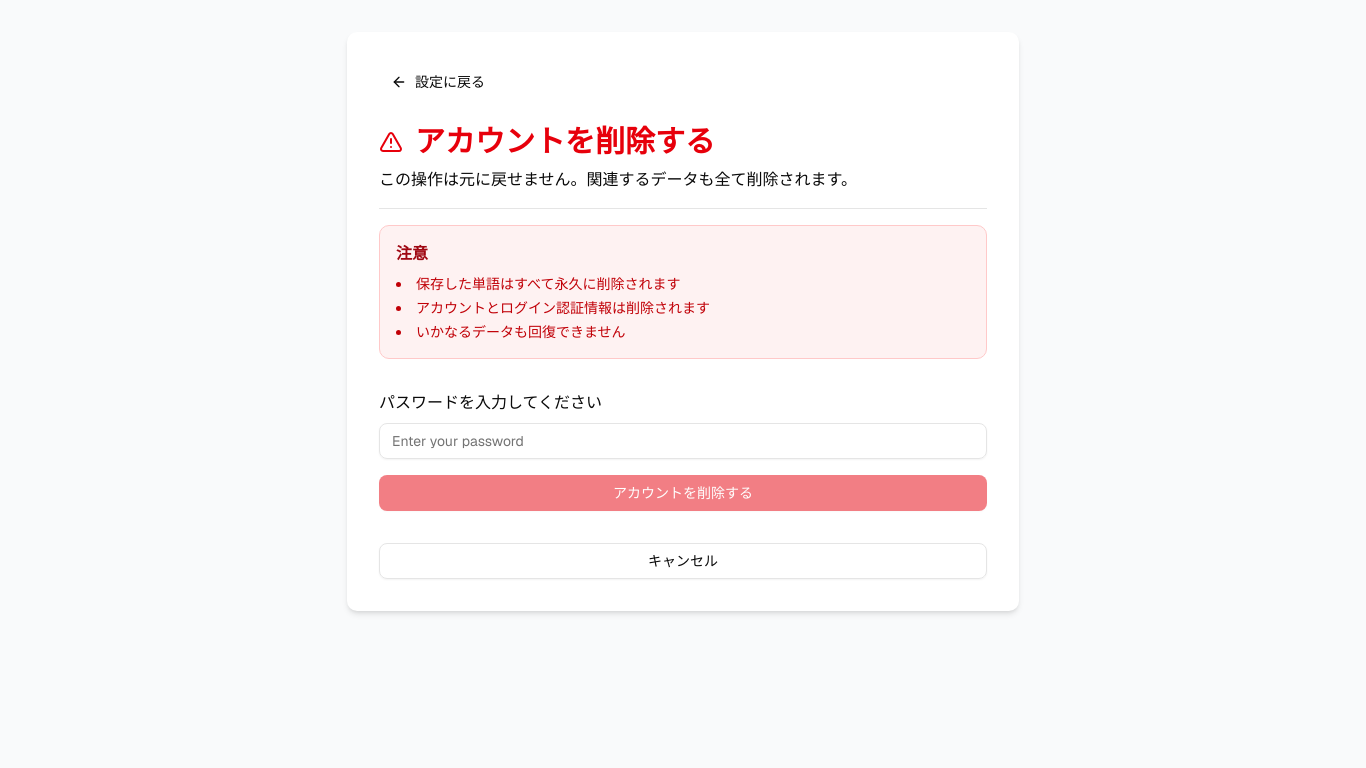
Scenario: DeleteAccount › アカウントを削除するを押すと確認ダイアログが表示される
Type "password123" into the password field with placeholder "Enter your password". click: (683, 441)
box: left=379, top=423, right=987, bottom=459
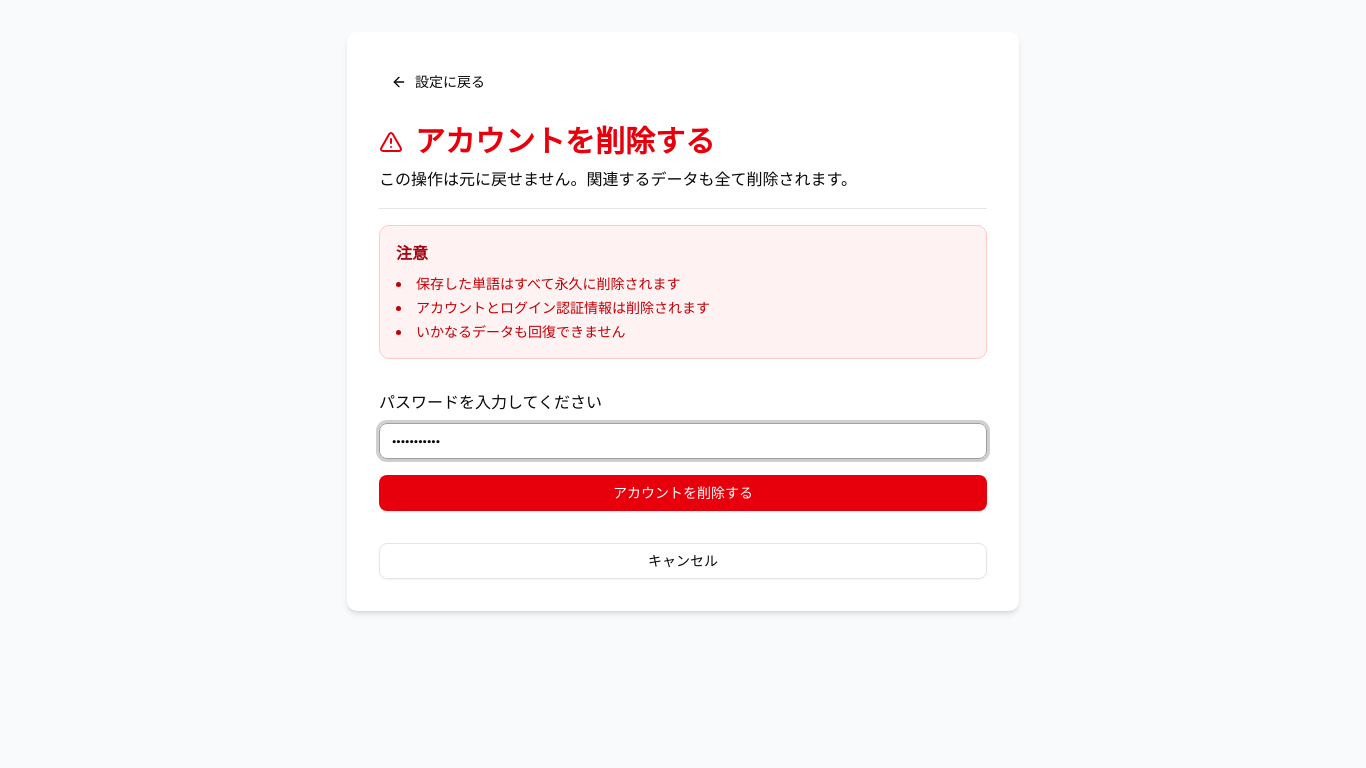
Click the button "アカウントを削除する". click: click(683, 493)
box: left=379, top=475, right=987, bottom=511
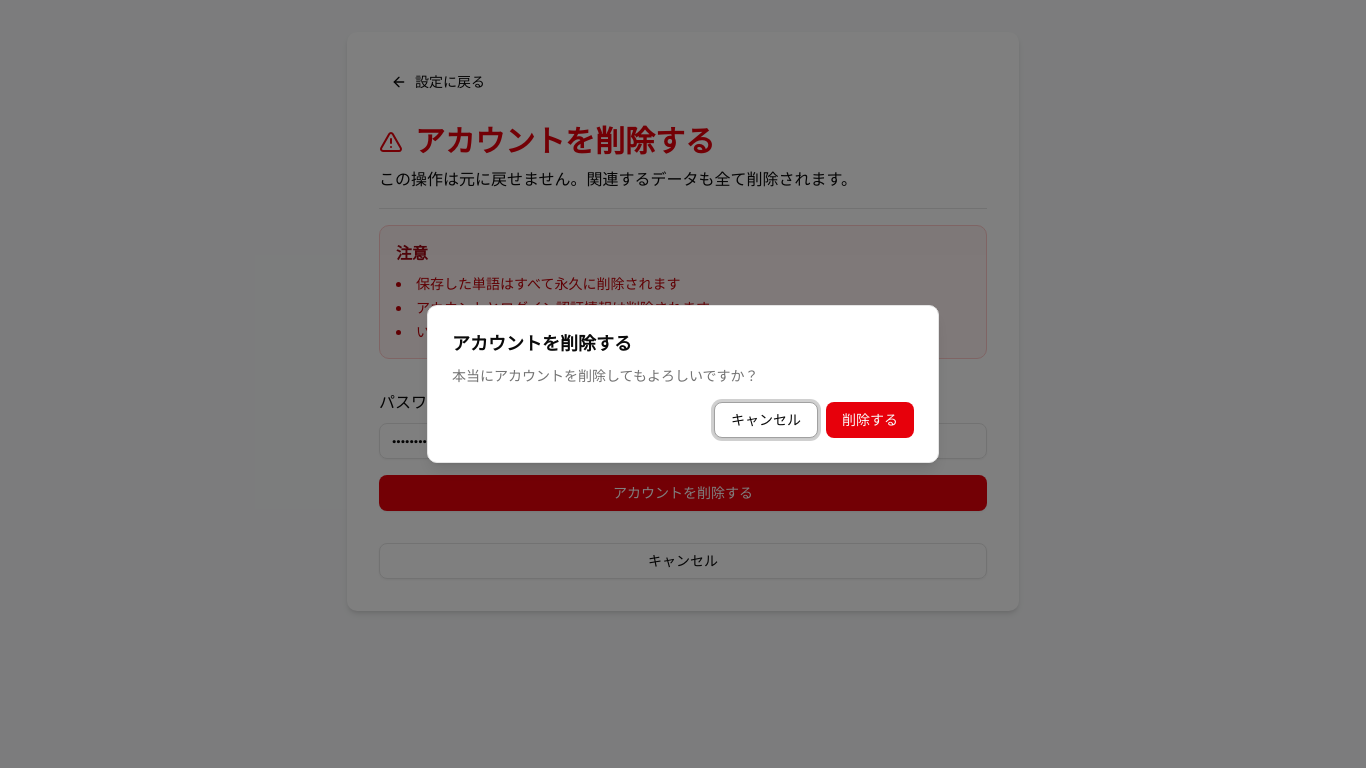
Check: the dialog is shown, box left=427, top=305, right=939, bottom=463
Check: the heading "アカウントを削除する" is shown, box left=452, top=332, right=632, bottom=355
Check: the text "本当にアカウントを削除してもよろしいですか？" is shown, box left=452, top=367, right=758, bottom=385
